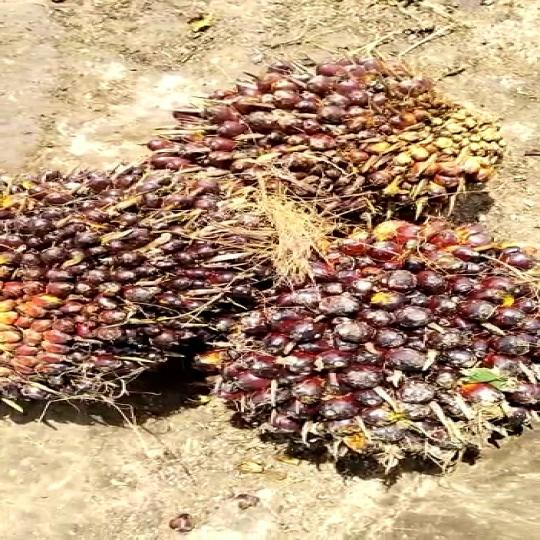kurang masak: (233, 223, 540, 468), (0, 150, 272, 421), (157, 53, 540, 207)
